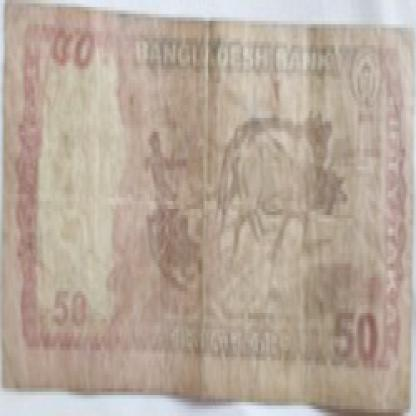Fifty taka: (323, 294, 384, 392), (51, 28, 100, 90)
